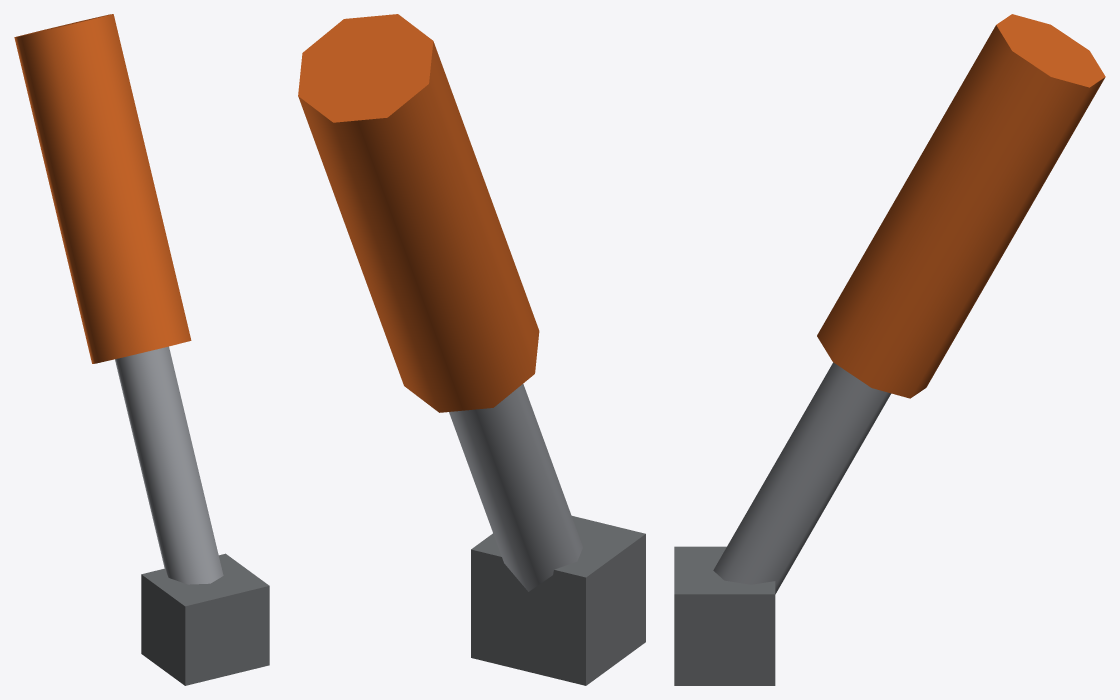
File: po4_actuator.obj
3 renders of one model, left to right at view 1: azimuth 30°, elevation 25°; view 2: azimuth 150°, elevation 25°; view 3: azimuth 270°, elevation 25°, orthographic. The views are drawn at different scales.
Visible parts, largest first — view 1: po4_actuator; view 2: po4_actuator; view 3: po4_actuator.
Part boxes in pixels (x1,y1,x2,y2): po4_actuator: [14, 14, 269, 685]; po4_actuator: [298, 14, 645, 685]; po4_actuator: [674, 14, 1105, 685].
Bounding box in the file's own units: 0.22 × 1.25 × 0.7675.
